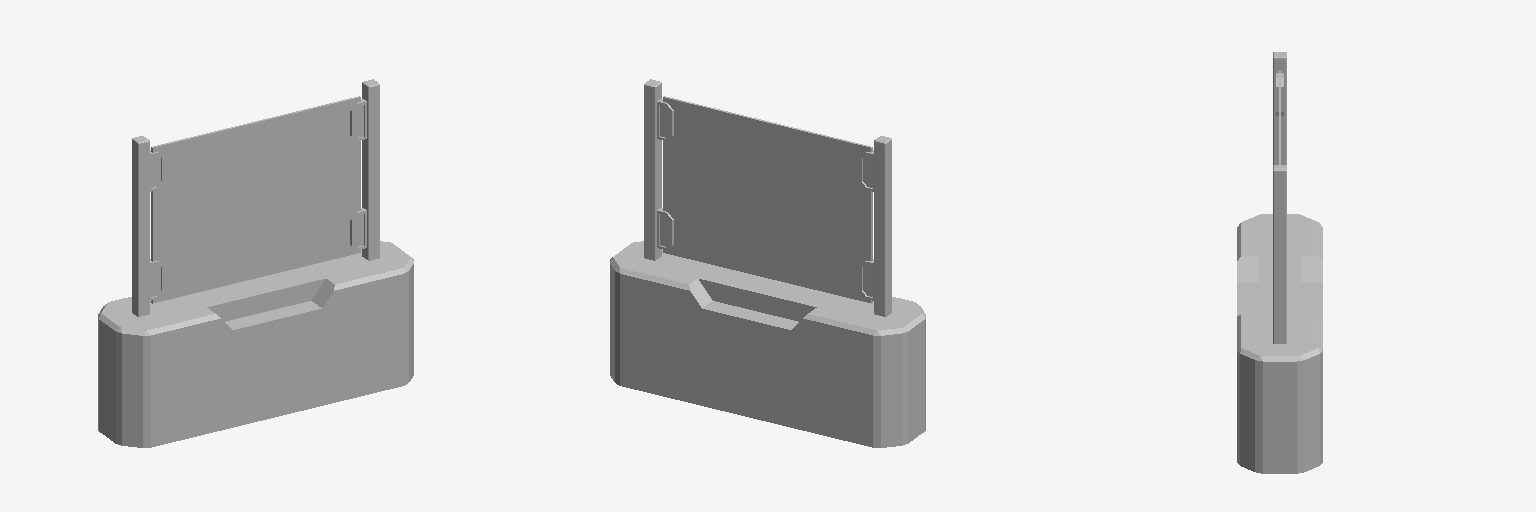
File: XARSIGN1.obj
3 renders of one model, left to right at view 1: azimuth 30°, elevation 25°; view 2: azimuth 150°, elevation 25°; view 3: azimuth 270°, elevation 25°, orthographic.
Visible parts, largest first — view 1: Cube.001; view 2: Cube.001; view 3: Cube.001.
Boxes of the visible parts, x1,y1,x2,y2 form: Cube.001: [98, 79, 413, 447]; Cube.001: [610, 79, 925, 447]; Cube.001: [1237, 52, 1322, 473].
Size of the model in its own units: 8 by 7.45 by 2.